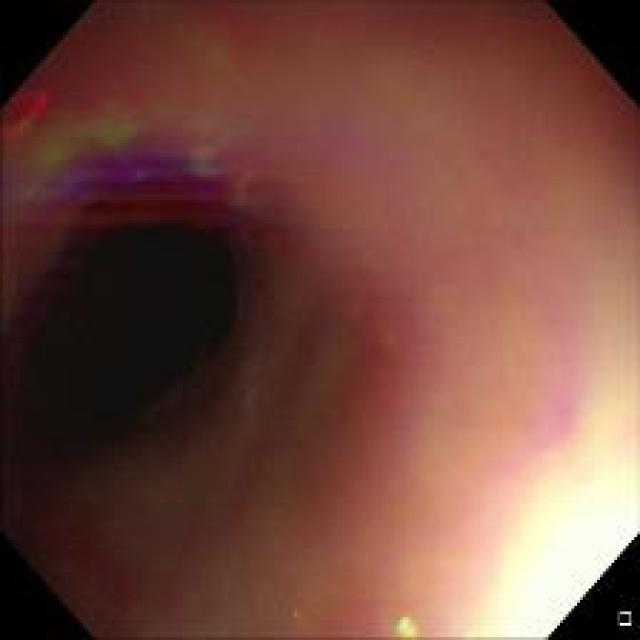color misalignment: (6, 89, 282, 234), (521, 306, 585, 468), (391, 610, 424, 634)
contrast: (25, 179, 336, 520)
saturation: (474, 486, 632, 634)
